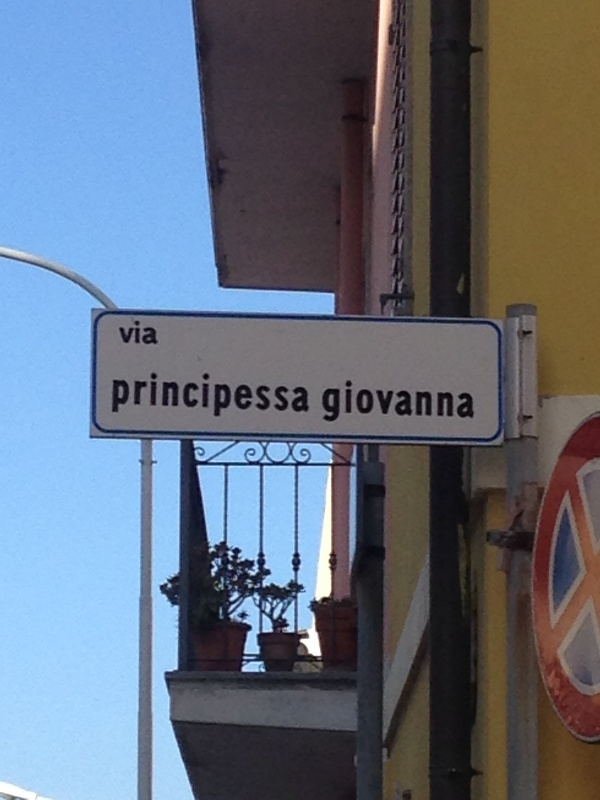text: (337, 377, 352, 428), (353, 377, 368, 428), (369, 377, 384, 428), (385, 377, 400, 428), (401, 377, 416, 428), (417, 377, 432, 428), (433, 377, 448, 428), (449, 377, 464, 428), (113, 369, 128, 419), (129, 369, 144, 419), (145, 369, 160, 419), (161, 369, 176, 419), (177, 369, 192, 419), (193, 369, 208, 419), (209, 369, 224, 419), (225, 369, 240, 419), (241, 369, 256, 419), (257, 369, 272, 419), (273, 369, 288, 419), (289, 369, 304, 419), (323, 377, 336, 428), (465, 377, 476, 428), (129, 320, 144, 348), (145, 320, 160, 348), (305, 369, 311, 419), (118, 320, 128, 348)
